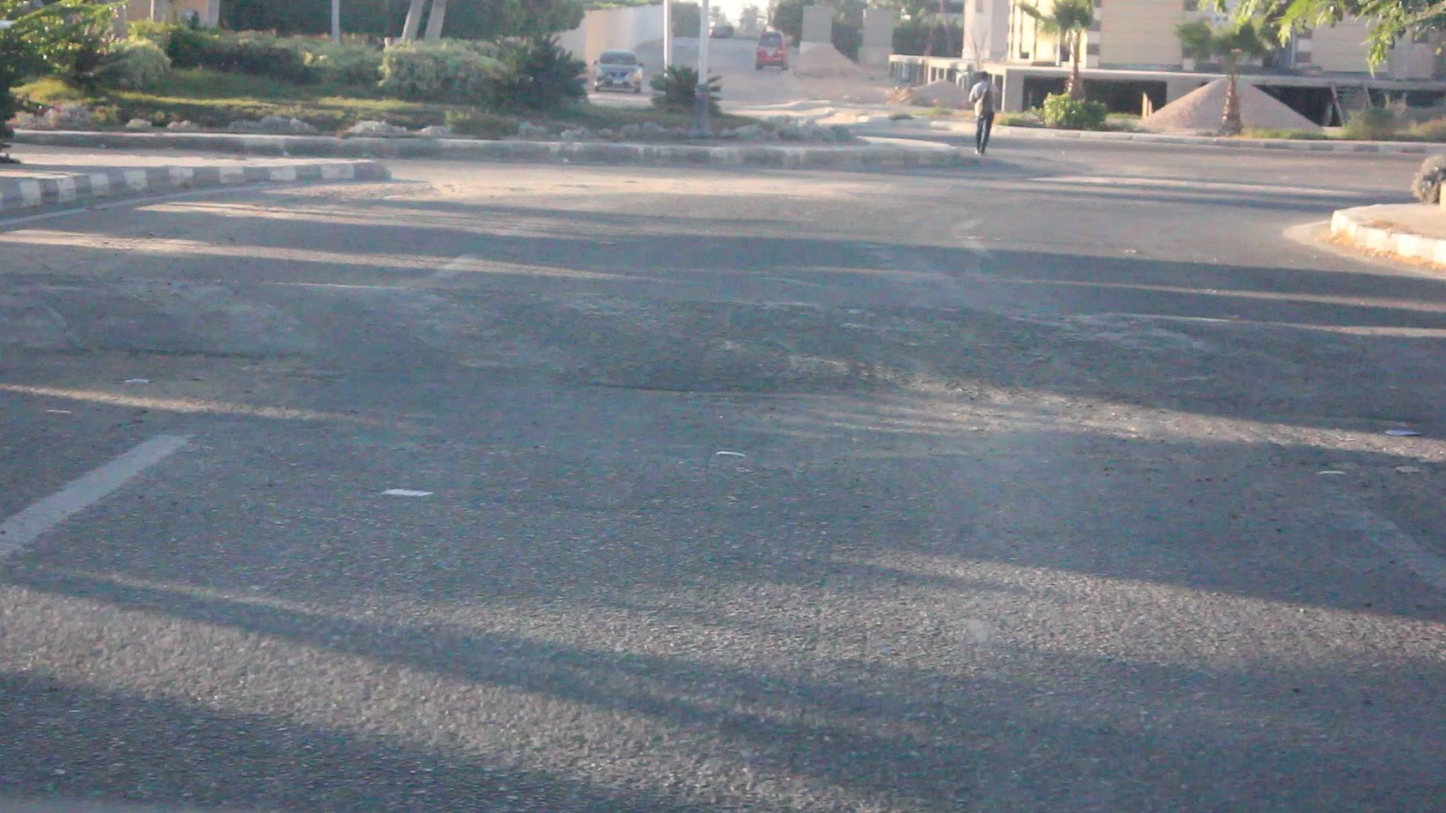Bump: (0, 248, 1446, 410)
